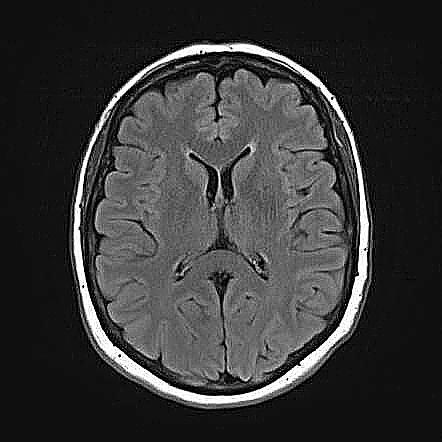Normal_Brain: (6, 3, 442, 442)
